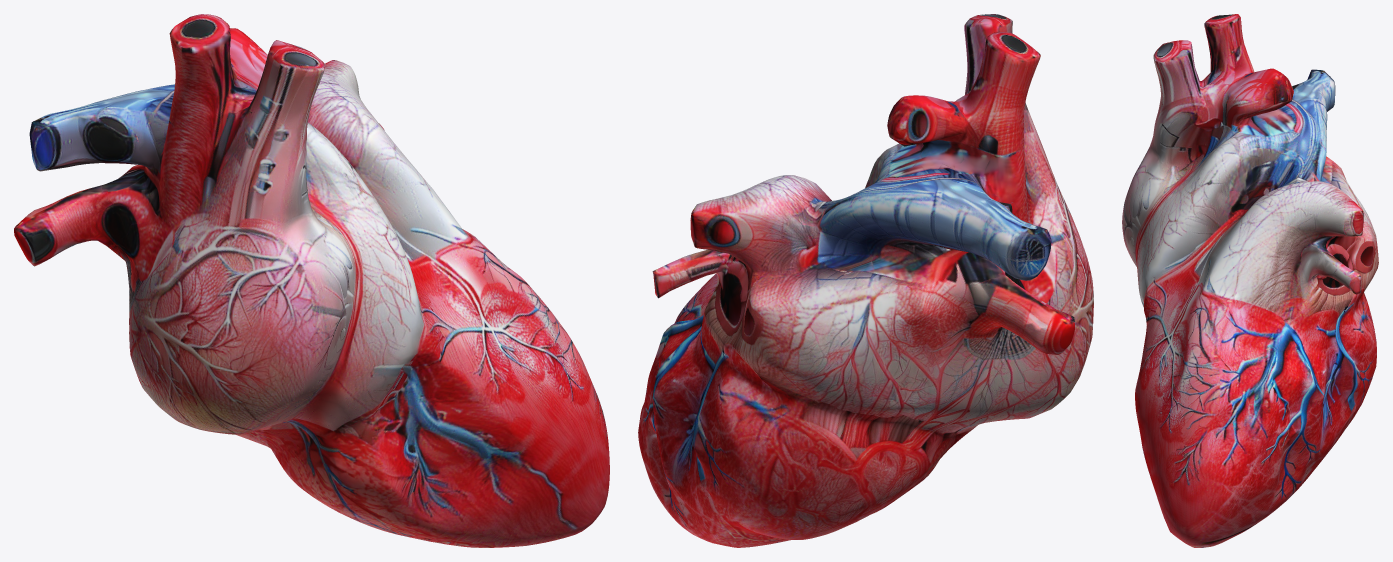
File: heart3D.glb
3 views of the same model, side by side, from view 1: azimuth 30°, elevation 25°; view 2: azimuth 150°, elevation 25°; view 3: azimuth 270°, elevation 25° (orthographic). The views are drawn at different scales.
Size of the model in its own units: 1.09 by 1.2 by 0.6704.
Materials: 1 (1 with a texture image).
